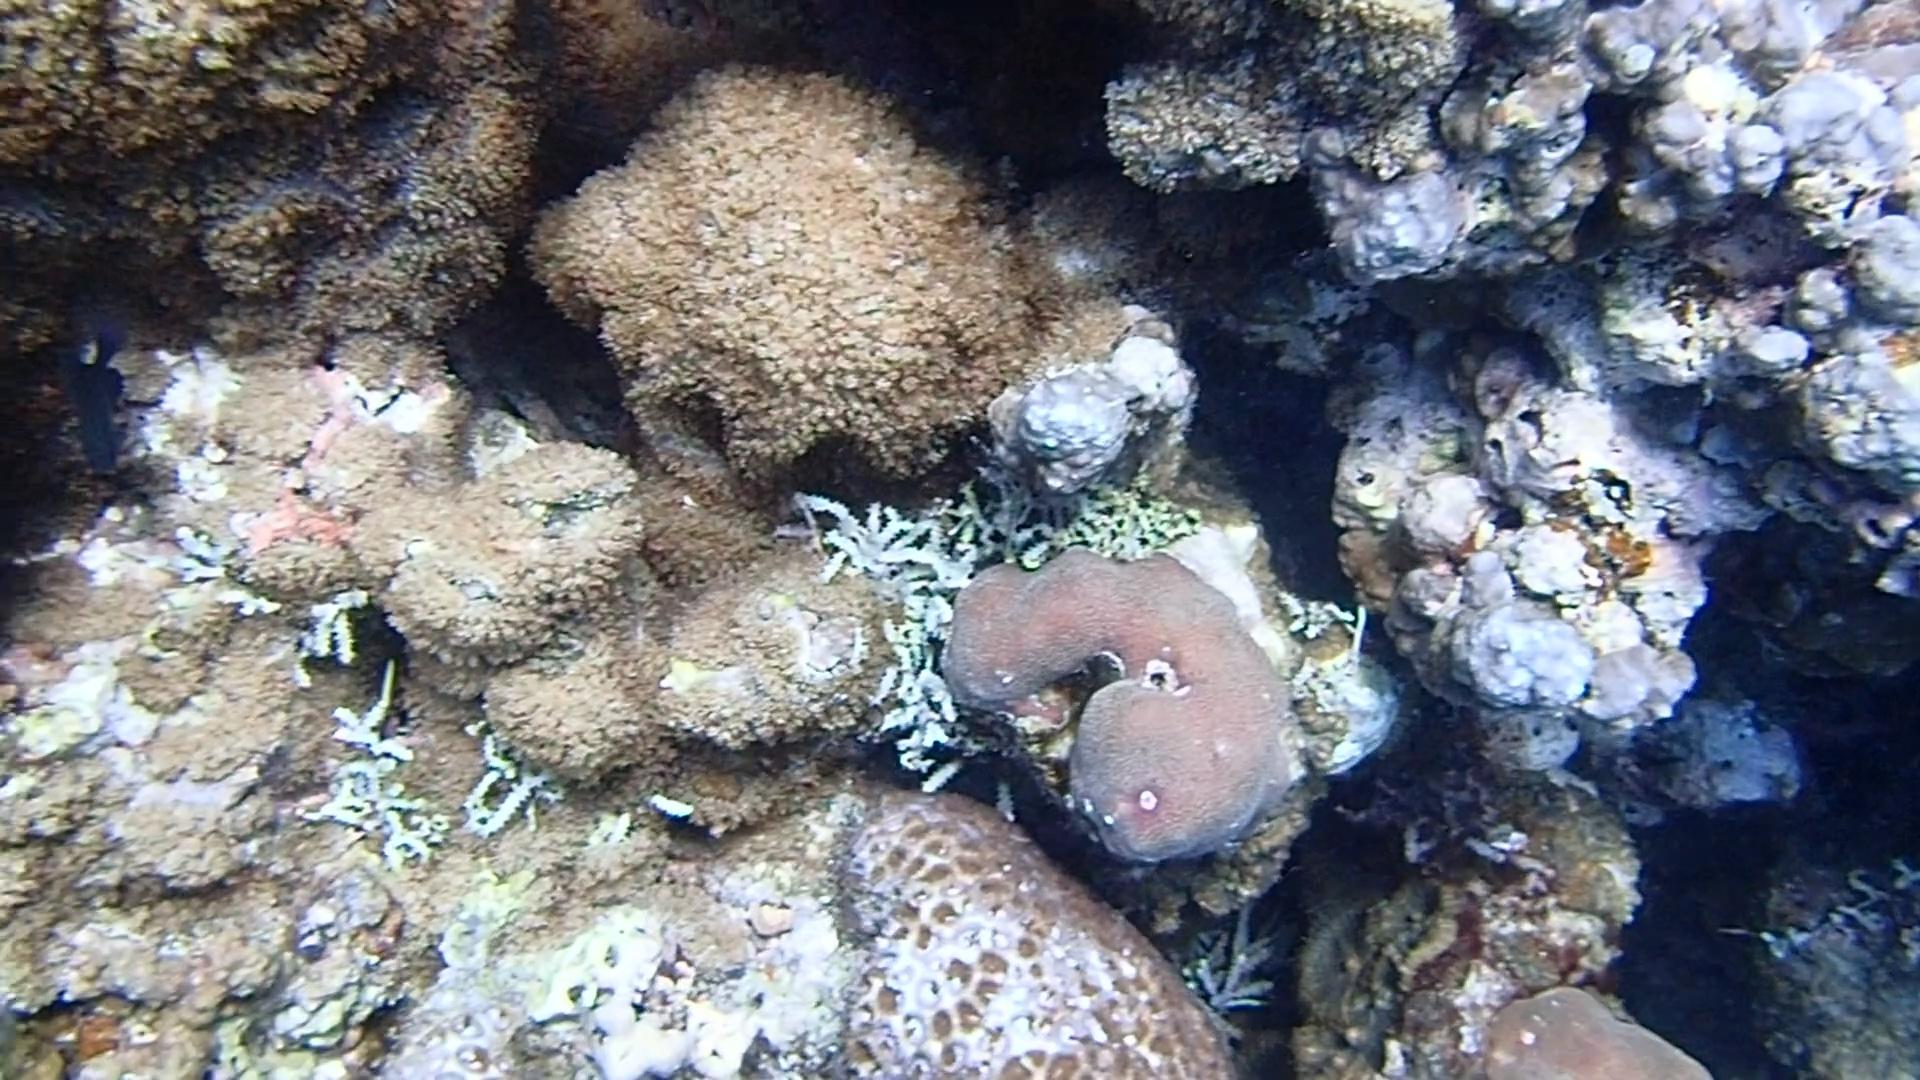Dark Fish: (55, 311, 148, 487)
